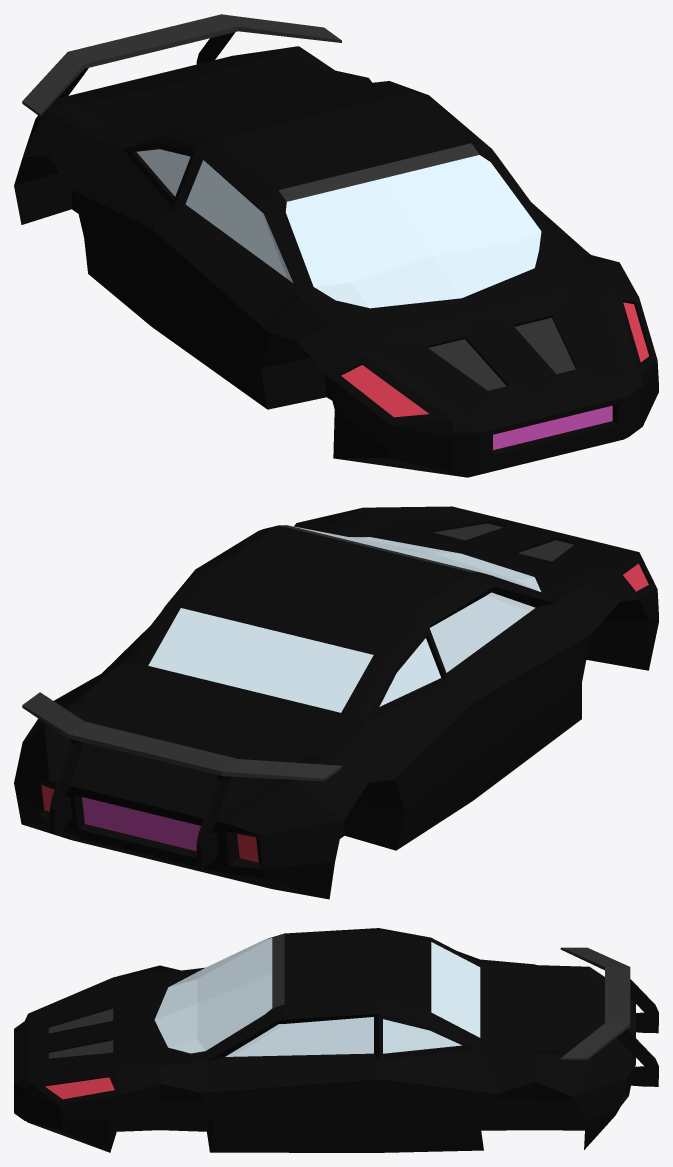
File: SportCar2.fbx
3 renders of one model, top to bottom at view 1: azimuth 30°, elevation 25°; view 2: azimuth 150°, elevation 25°; view 3: azimuth 270°, elevation 25°, orthographic. The views are drawn at different scales.
Visible parts, largest first — view 1: auto_runko; view 2: auto_runko; view 3: auto_runko.
Boxes of the visible parts, left/top/right/bottom form: auto_runko: left=14, top=14, right=658, bottom=477; auto_runko: left=14, top=506, right=658, bottom=899; auto_runko: left=14, top=928, right=658, bottom=1152.
Size of the model in its own units: 183 by 423 by 93.74.
